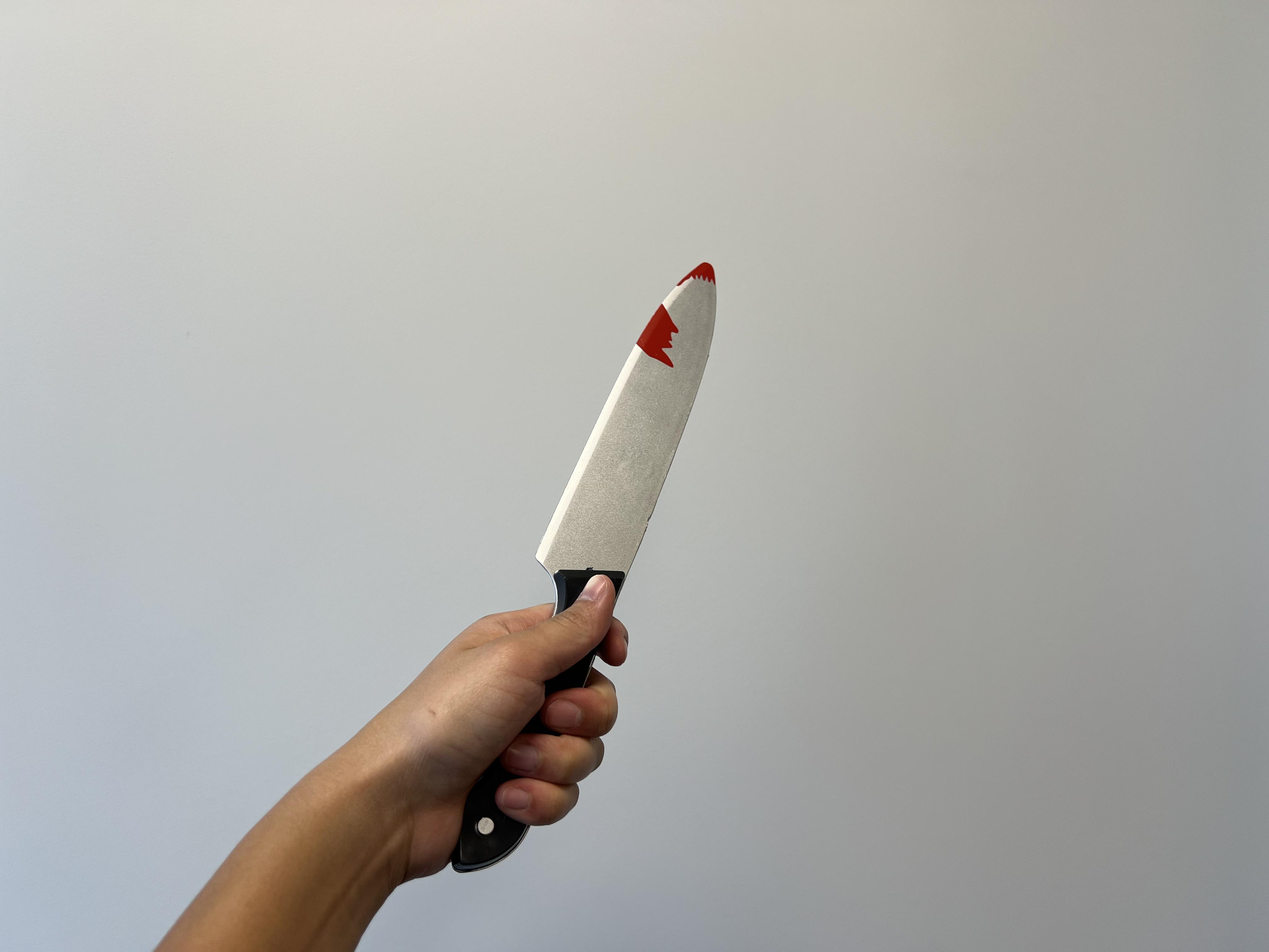Knife: (151, 609, 629, 952), (544, 258, 722, 612), (400, 607, 629, 875)
